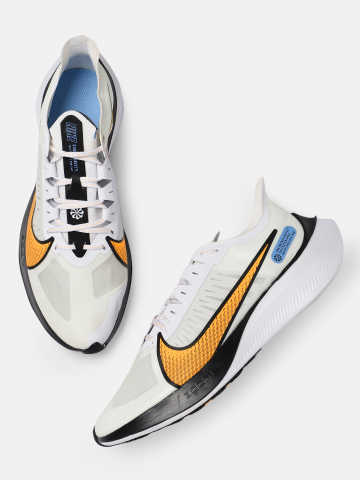shoe: (11, 20, 133, 360)
